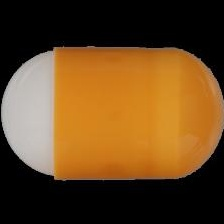60505-0014: (0, 0, 224, 224)
